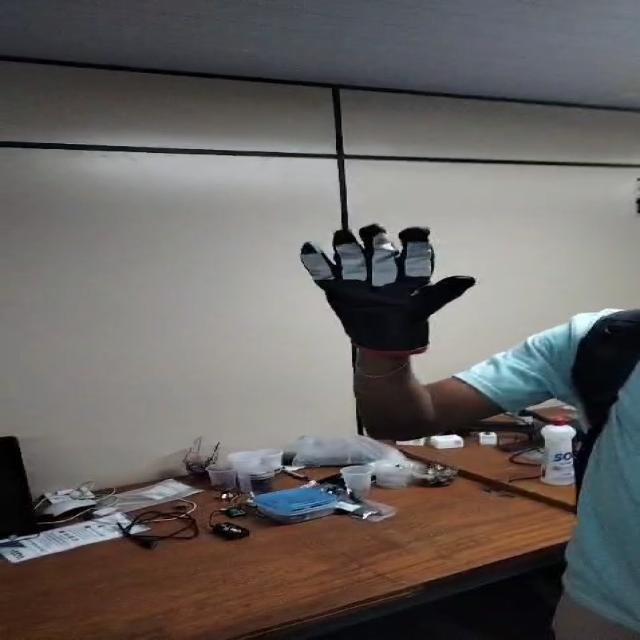Gloves: (301, 218, 469, 352)
